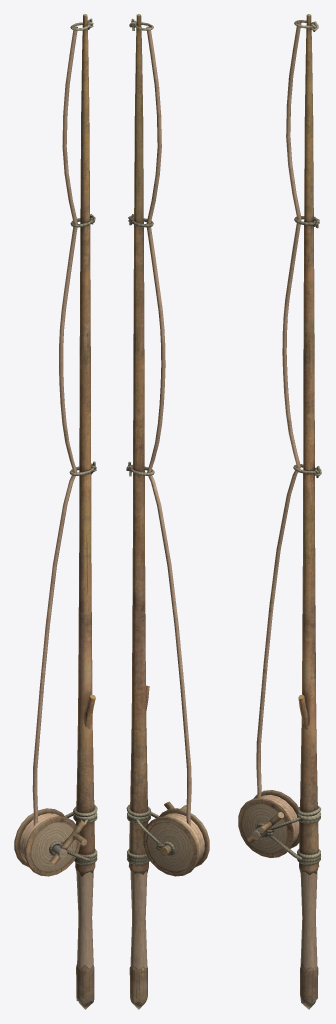
The picture shows the model from 3 angles, left to right: view 1: azimuth 30°, elevation 25°; view 2: azimuth 150°, elevation 25°; view 3: azimuth 330°, elevation 25°; orthographic projection.
Parts seen in each view (by area): view 1: SM_Fishing_Rod_2H_01_LOD0; view 2: SM_Fishing_Rod_2H_01_LOD0; view 3: SM_Fishing_Rod_2H_01_LOD0.
Part boxes in pixels (x1,y1,x2,y2): SM_Fishing_Rod_2H_01_LOD0: (14,14,97,1009); SM_Fishing_Rod_2H_01_LOD0: (126,14,209,1009); SM_Fishing_Rod_2H_01_LOD0: (238,14,321,1009).
Size of the model in its own units: 0.2172 by 2.69 by 0.1781.
1 material, 1 textured.
